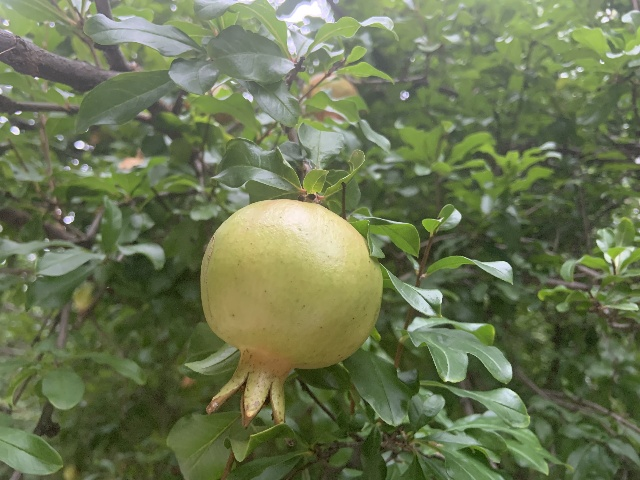mid-growth: (196, 198, 383, 429)
